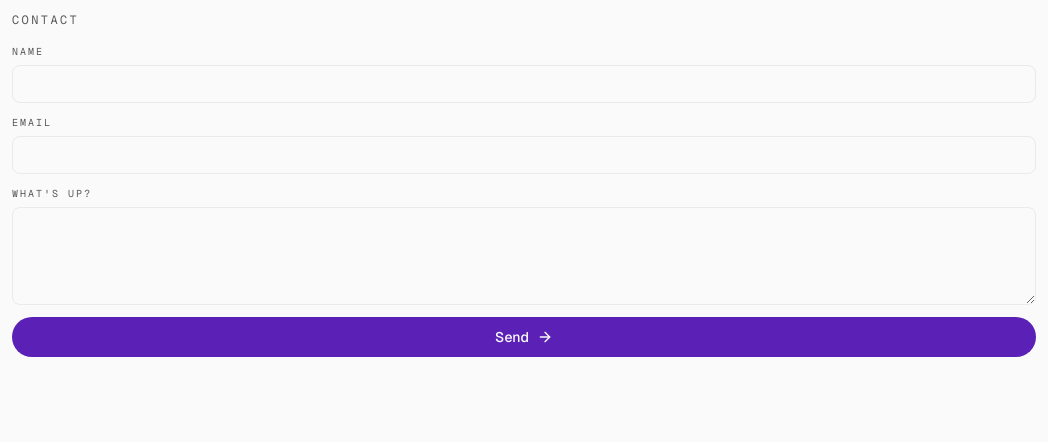
Test: ContactTile › shows inline validation errors on empty submit
Click the button "Send" at (524,337), box [12, 317, 1036, 357]
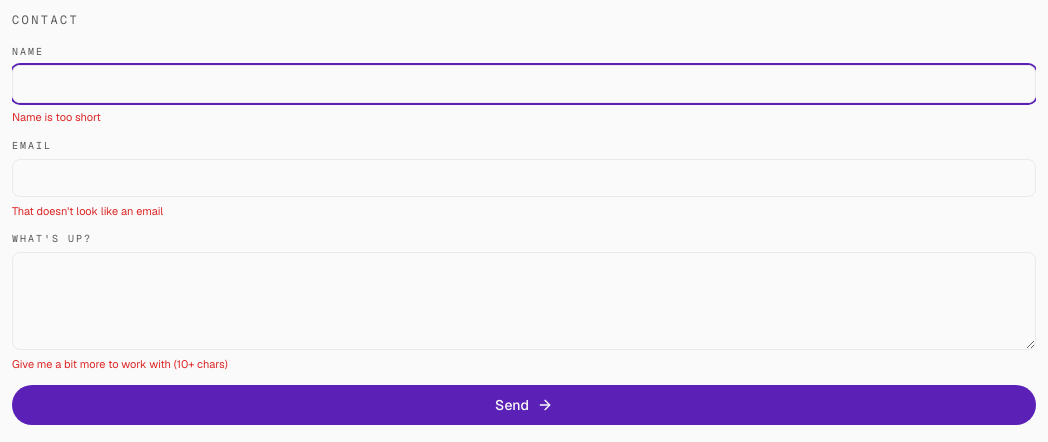
expect the text "Name is too short" is shown: met, box [12, 110, 101, 124]
expect the text "That doesn't look like an email" is shown: met, box [12, 204, 163, 218]
